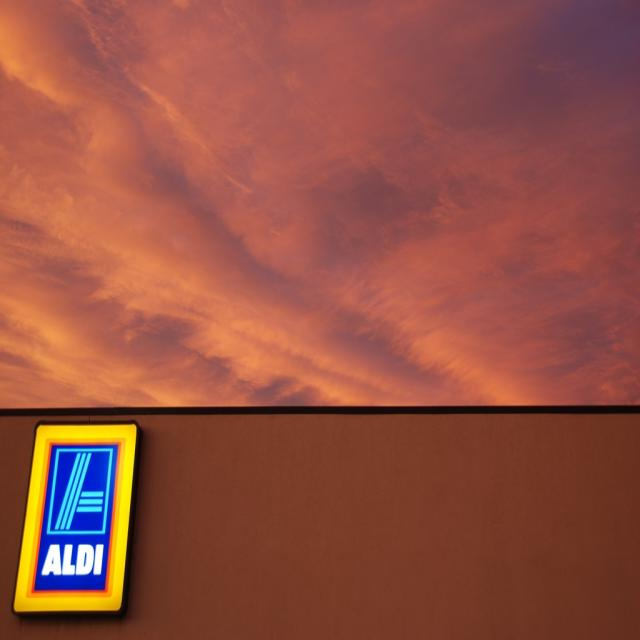aldi: (15, 424, 137, 613)
